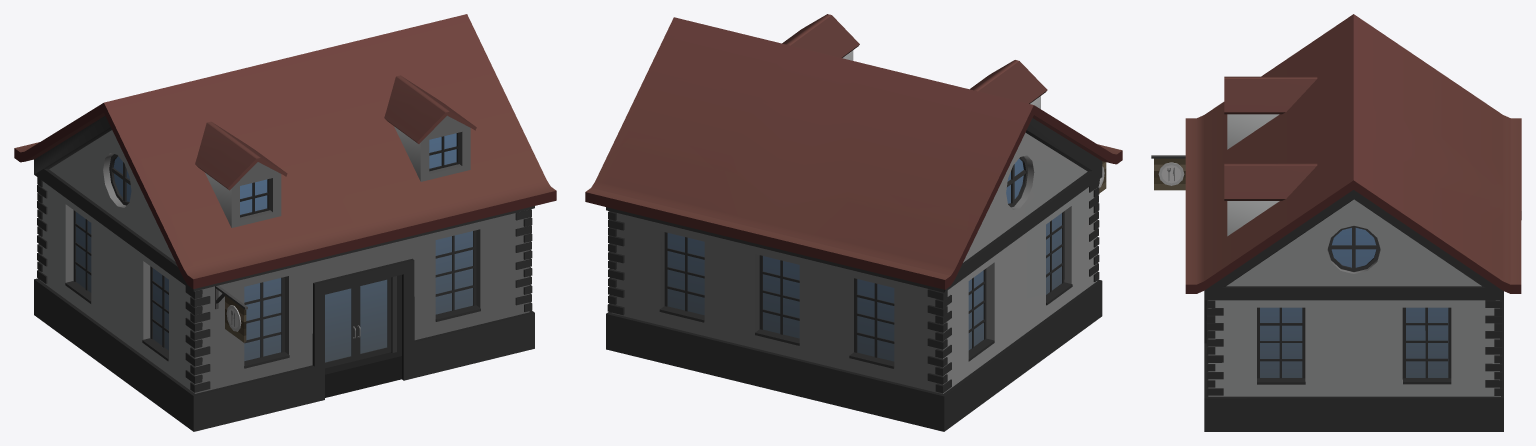
Rendered from buildings-business-restaurant_v1.glb.
3 views of the same model, side by side, from view 1: azimuth 30°, elevation 25°; view 2: azimuth 150°, elevation 25°; view 3: azimuth 270°, elevation 25° (orthographic). The views are drawn at different scales.
Parts seen in each view (by area): view 1: Restaurant_base, Restaurant_windowRefl; view 2: Restaurant_base, Restaurant_windowRefl; view 3: Restaurant_base, Restaurant_windowRefl.
Boxes of the visible parts, left/top/right/bottom form: Restaurant_base: left=14, top=14, right=556, bottom=431; Restaurant_windowRefl: left=76, top=133, right=472, bottom=362; Restaurant_base: left=585, top=14, right=1122, bottom=431; Restaurant_windowRefl: left=667, top=158, right=1061, bottom=361; Restaurant_base: left=1151, top=14, right=1521, bottom=431; Restaurant_windowRefl: left=1260, top=228, right=1448, bottom=377.
Bounding box in the file's own units: 17.03 × 12.26 × 16.03.
